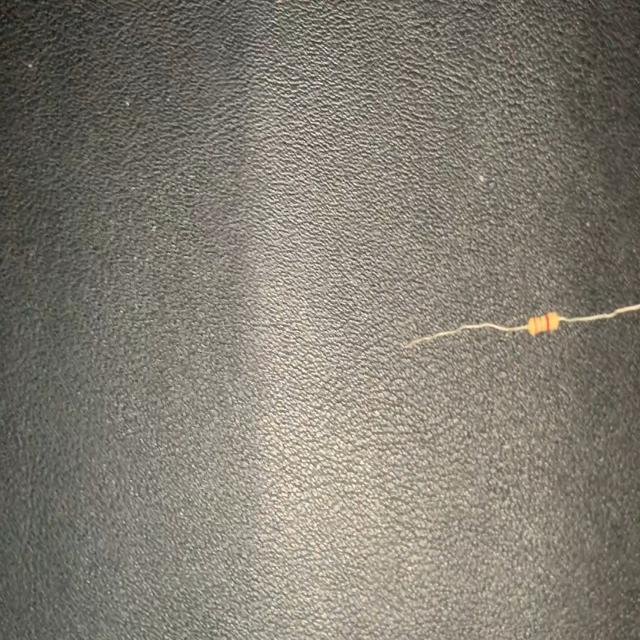resistor: (415, 298, 640, 346)
